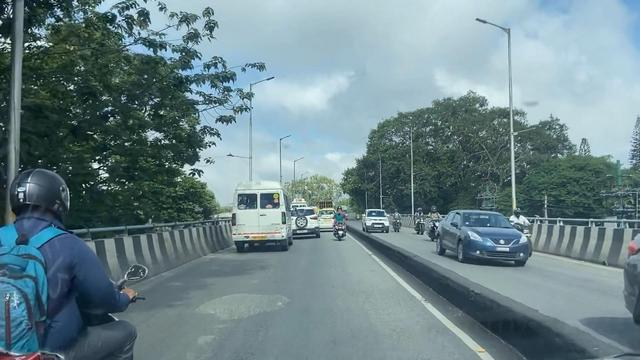HMV: (232, 183, 288, 251)
LMV: (334, 206, 345, 241)
RoadDamages: (201, 287, 293, 324)
